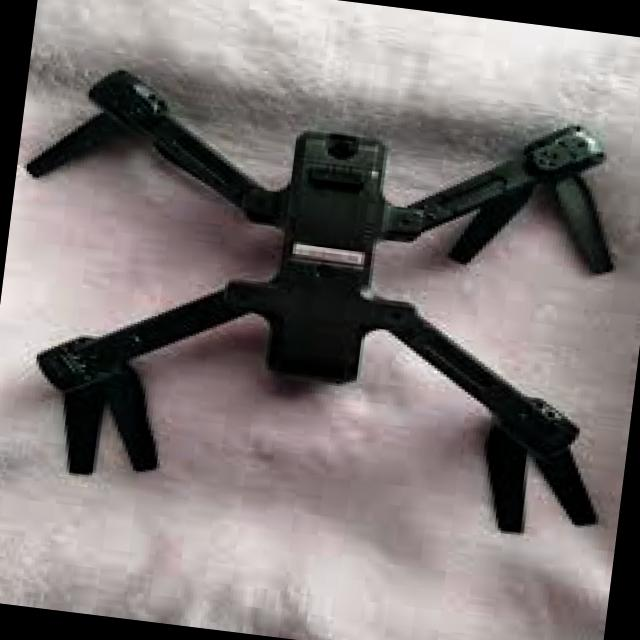drone: (0, 27, 640, 558)
